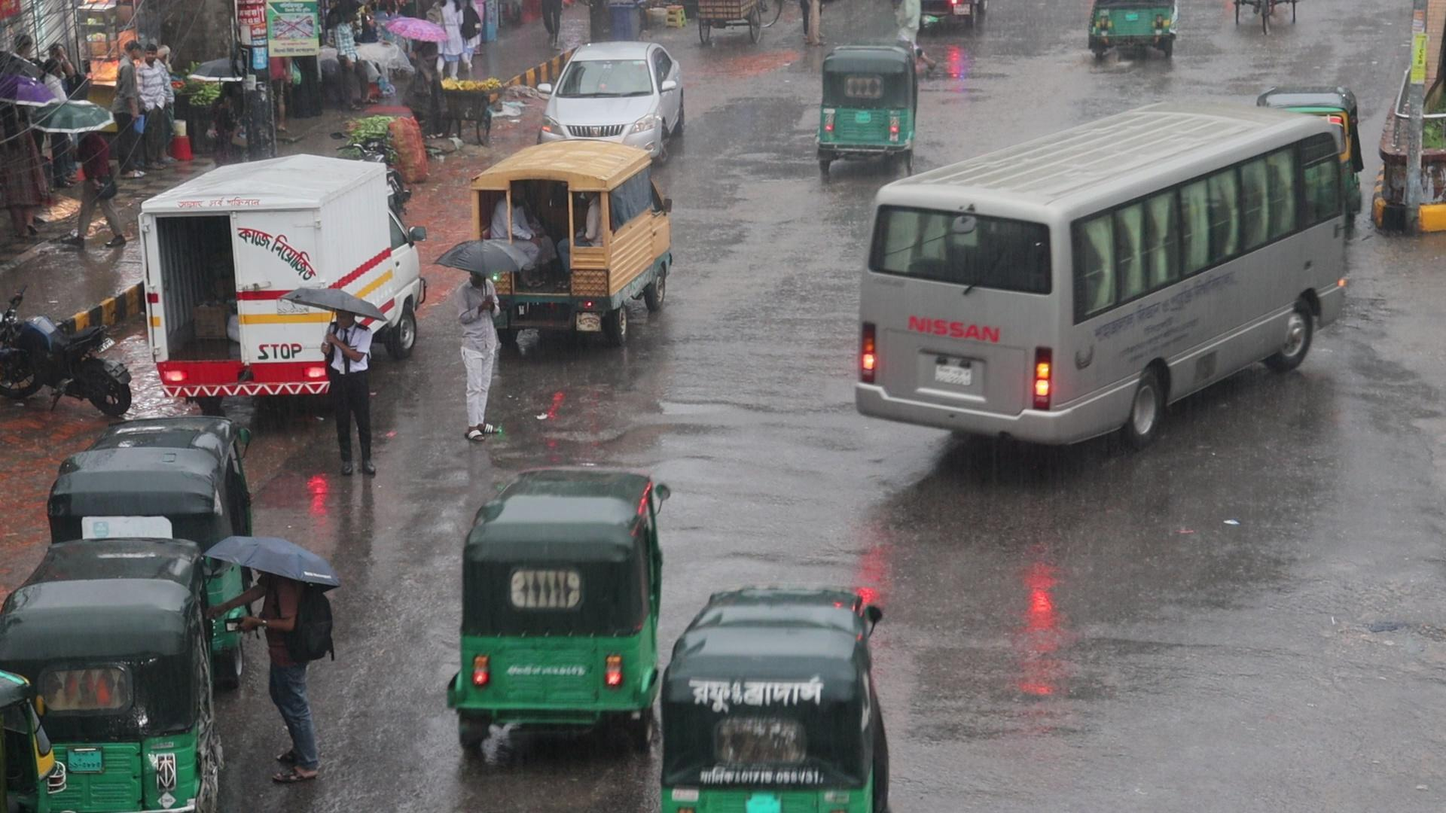Bus: (846, 99, 1354, 469)
Car: (533, 37, 679, 164)
Truck: (469, 139, 680, 358)
